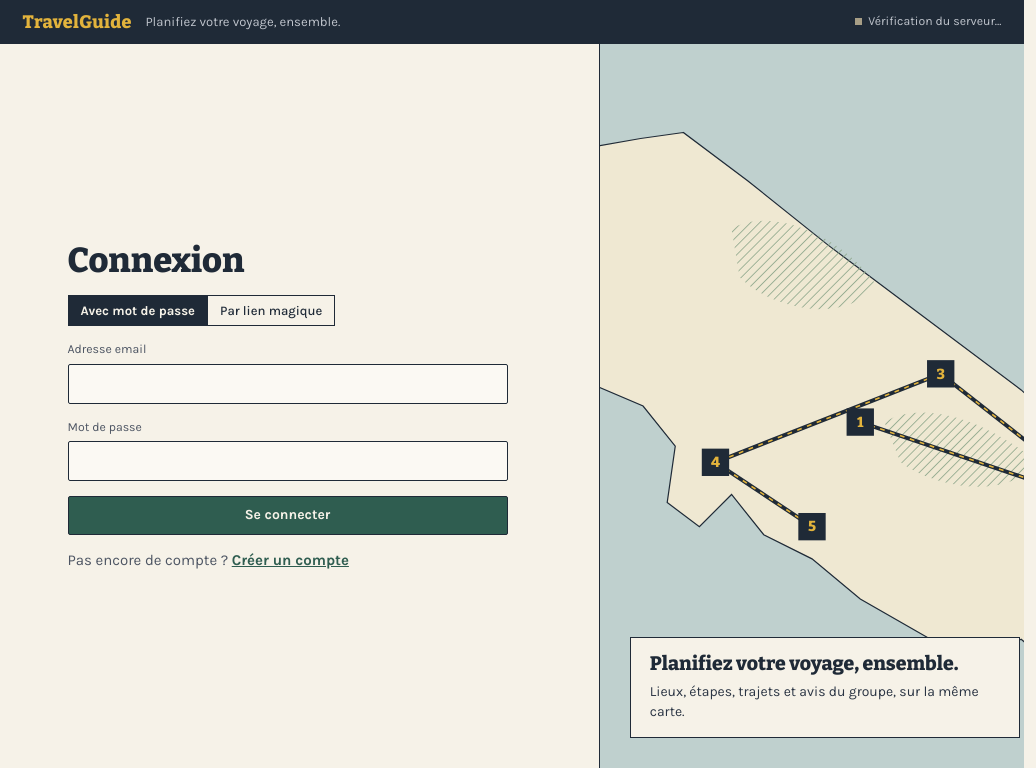
Test: authentification › demande un lien magique
Click the tab "Par lien magique": (271, 311) x1=207 y1=296 x2=334 y2=325
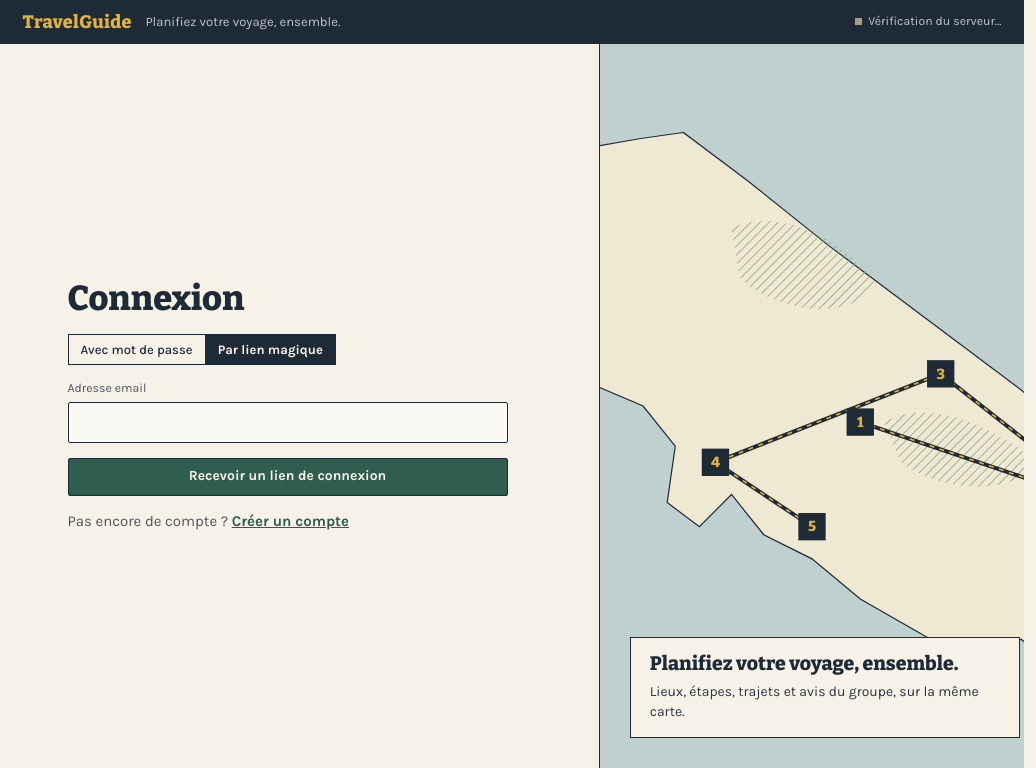
In the field labelled "Adresse email": (288, 423) x1=68 y1=402 x2=508 y2=443, type "ana@example.com"
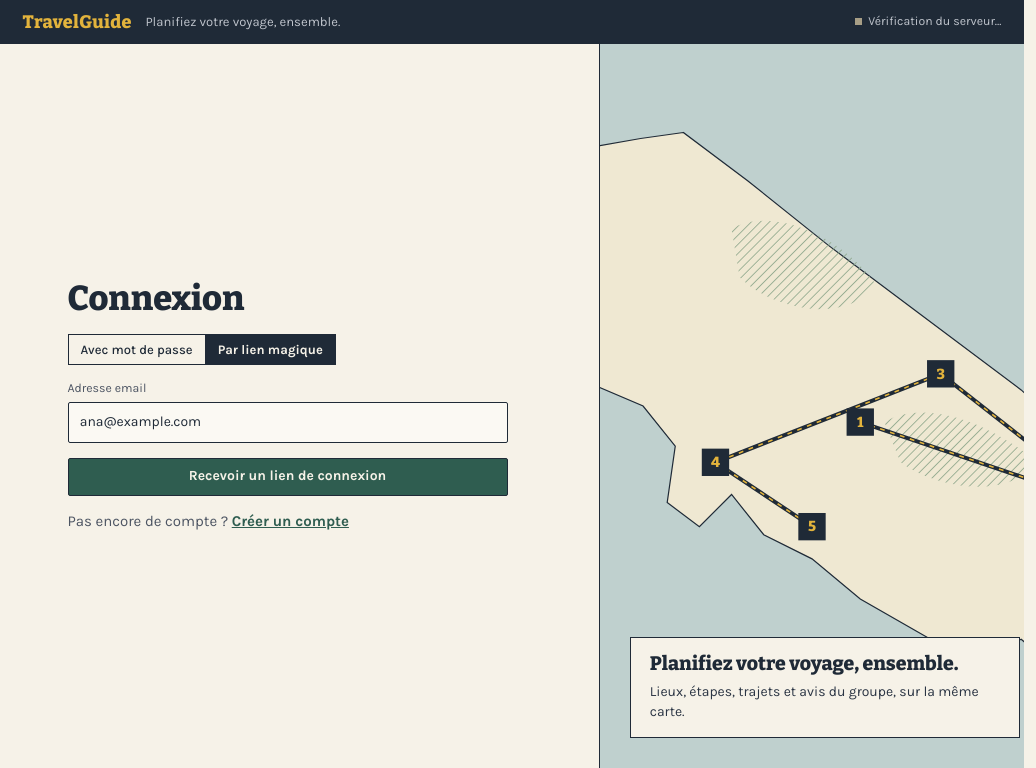
Click the button "Recevoir un lien de connexion": (288, 477) x1=68 y1=458 x2=508 y2=496
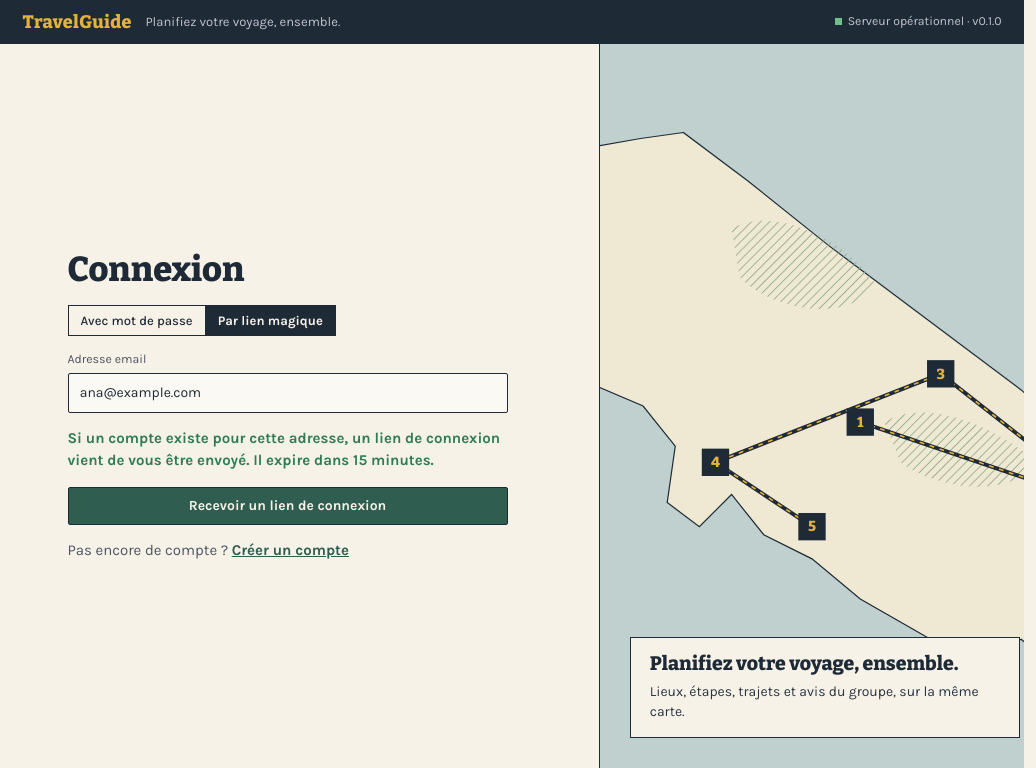
Now the message shows "lien de connexion", box x1=68 y1=429 x2=500 y2=469
